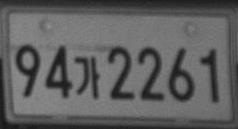1: (198, 47, 225, 103)
2: (107, 45, 135, 99), (137, 47, 165, 99)
4: (44, 44, 73, 98)
6: (167, 47, 194, 102)
9: (15, 44, 40, 97)
가: (74, 55, 100, 99)
